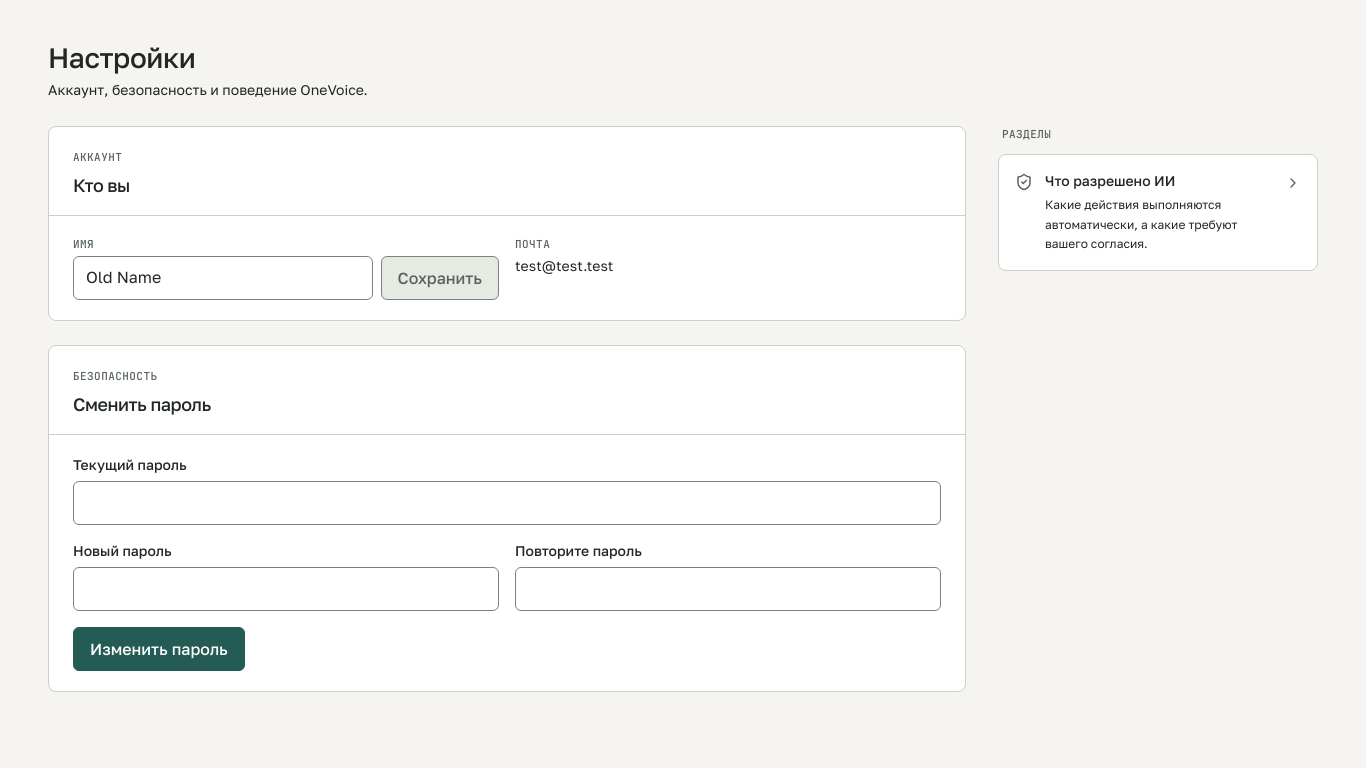
Test case: SettingsPage — editable display name › blocks save and shows an error for a too-short name
Replace the text in the field showing "Old Name" with "A" at [223, 278], box [73,256,373,300]
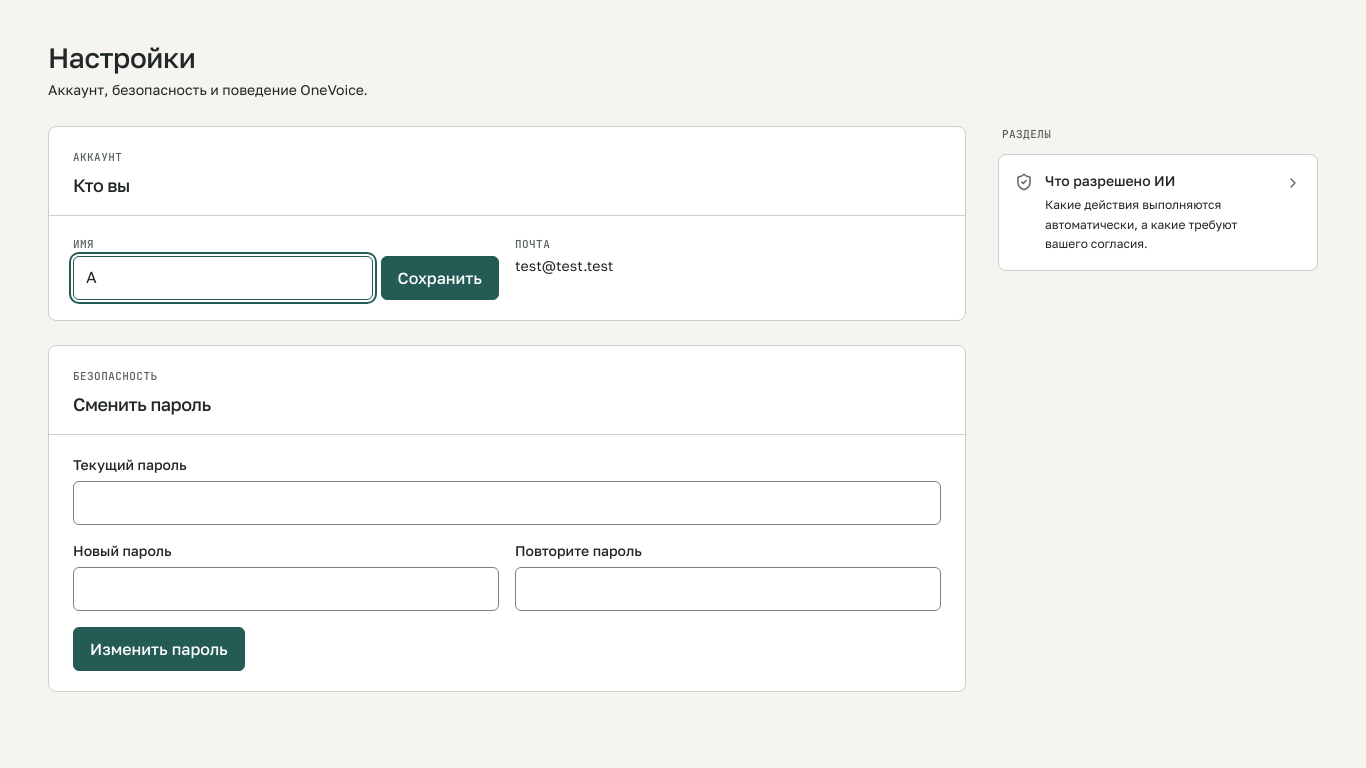
Click the button "Сохранить" at [440, 278], box [381,256,499,300]
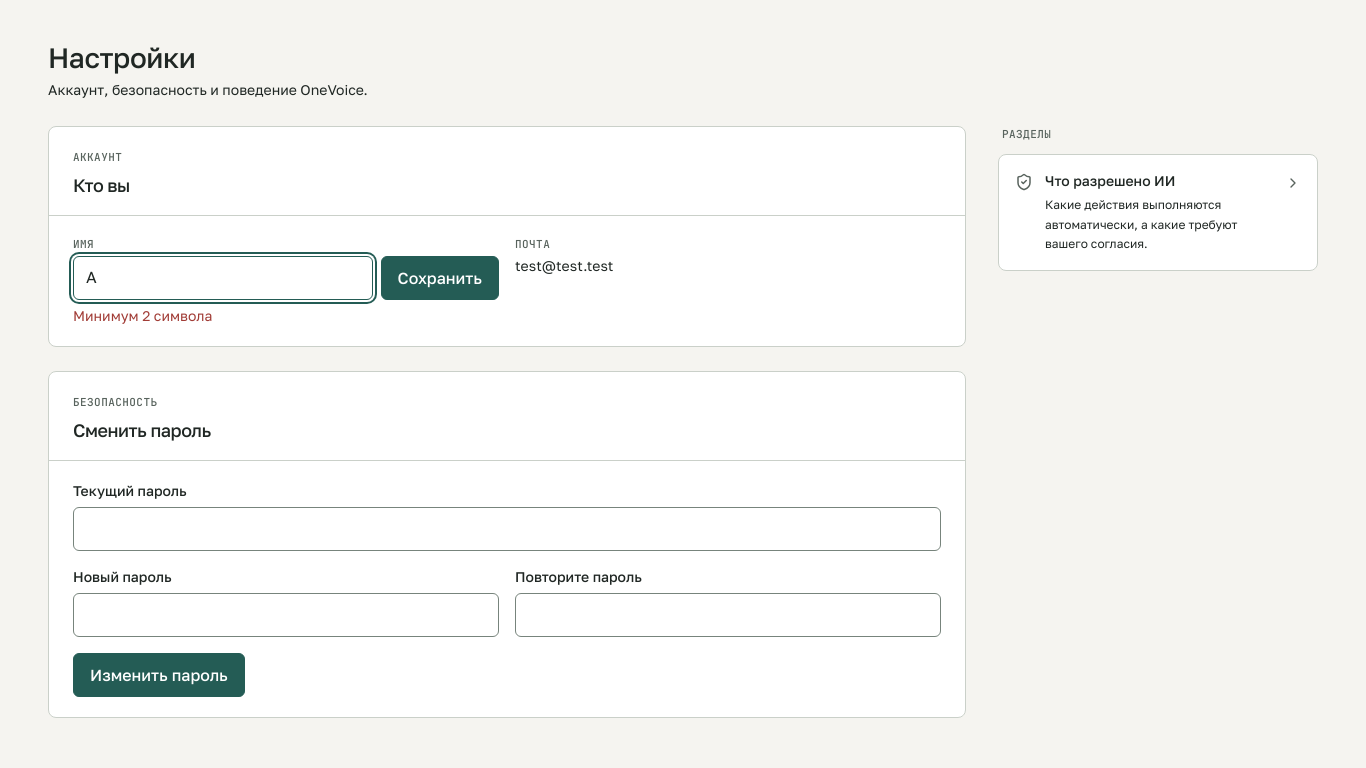
Now the text "Минимум 2 символа" is shown, box [73,307,212,324]
